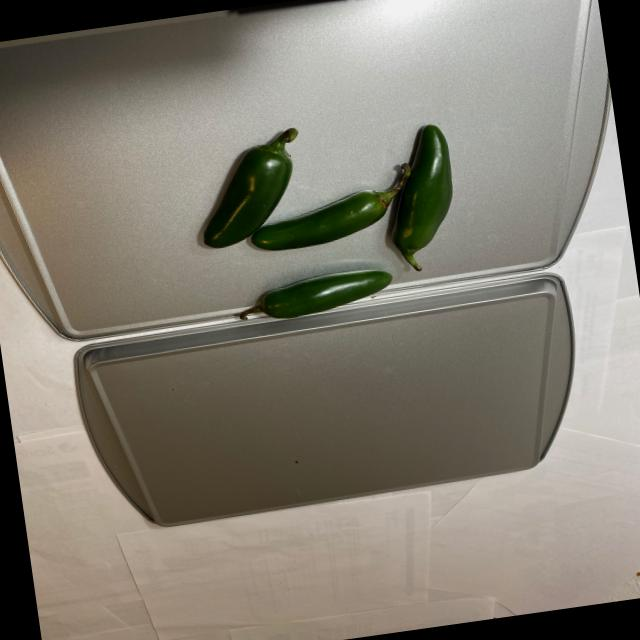chilli: (189, 108, 471, 333)
